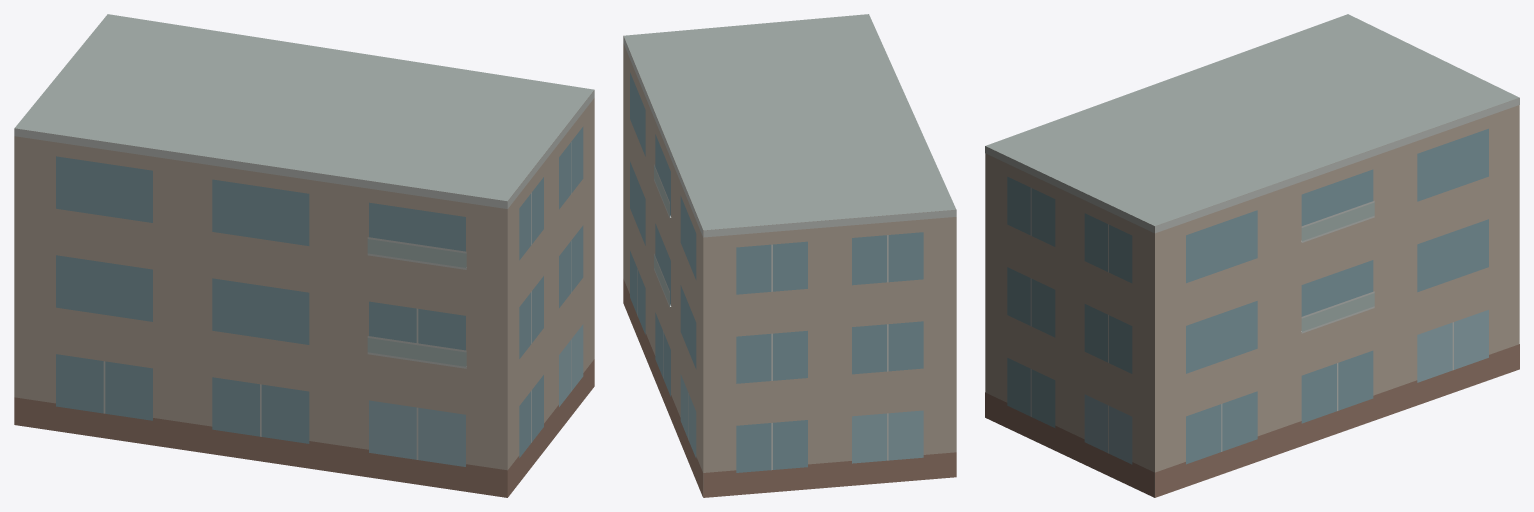
The model's file is survey-upis-33032160.glb.
3 views of the same model, side by side, from view 1: azimuth 30°, elevation 25°; view 2: azimuth 150°, elevation 25°; view 3: azimuth 270°, elevation 25° (orthographic). The views are drawn at different scales.
Visible parts, largest first — view 1: survey-upis-33032160.tmp; view 2: survey-upis-33032160.tmp; view 3: survey-upis-33032160.tmp.
Boxes of the visible parts, x1=… form: survey-upis-33032160.tmp: x1=14, y1=14, x2=594, y2=497; survey-upis-33032160.tmp: x1=623, y1=14, x2=956, y2=497; survey-upis-33032160.tmp: x1=985, y1=14, x2=1519, y2=497.
Size of the model in its own units: 15.33 by 9.15 by 16.32.
